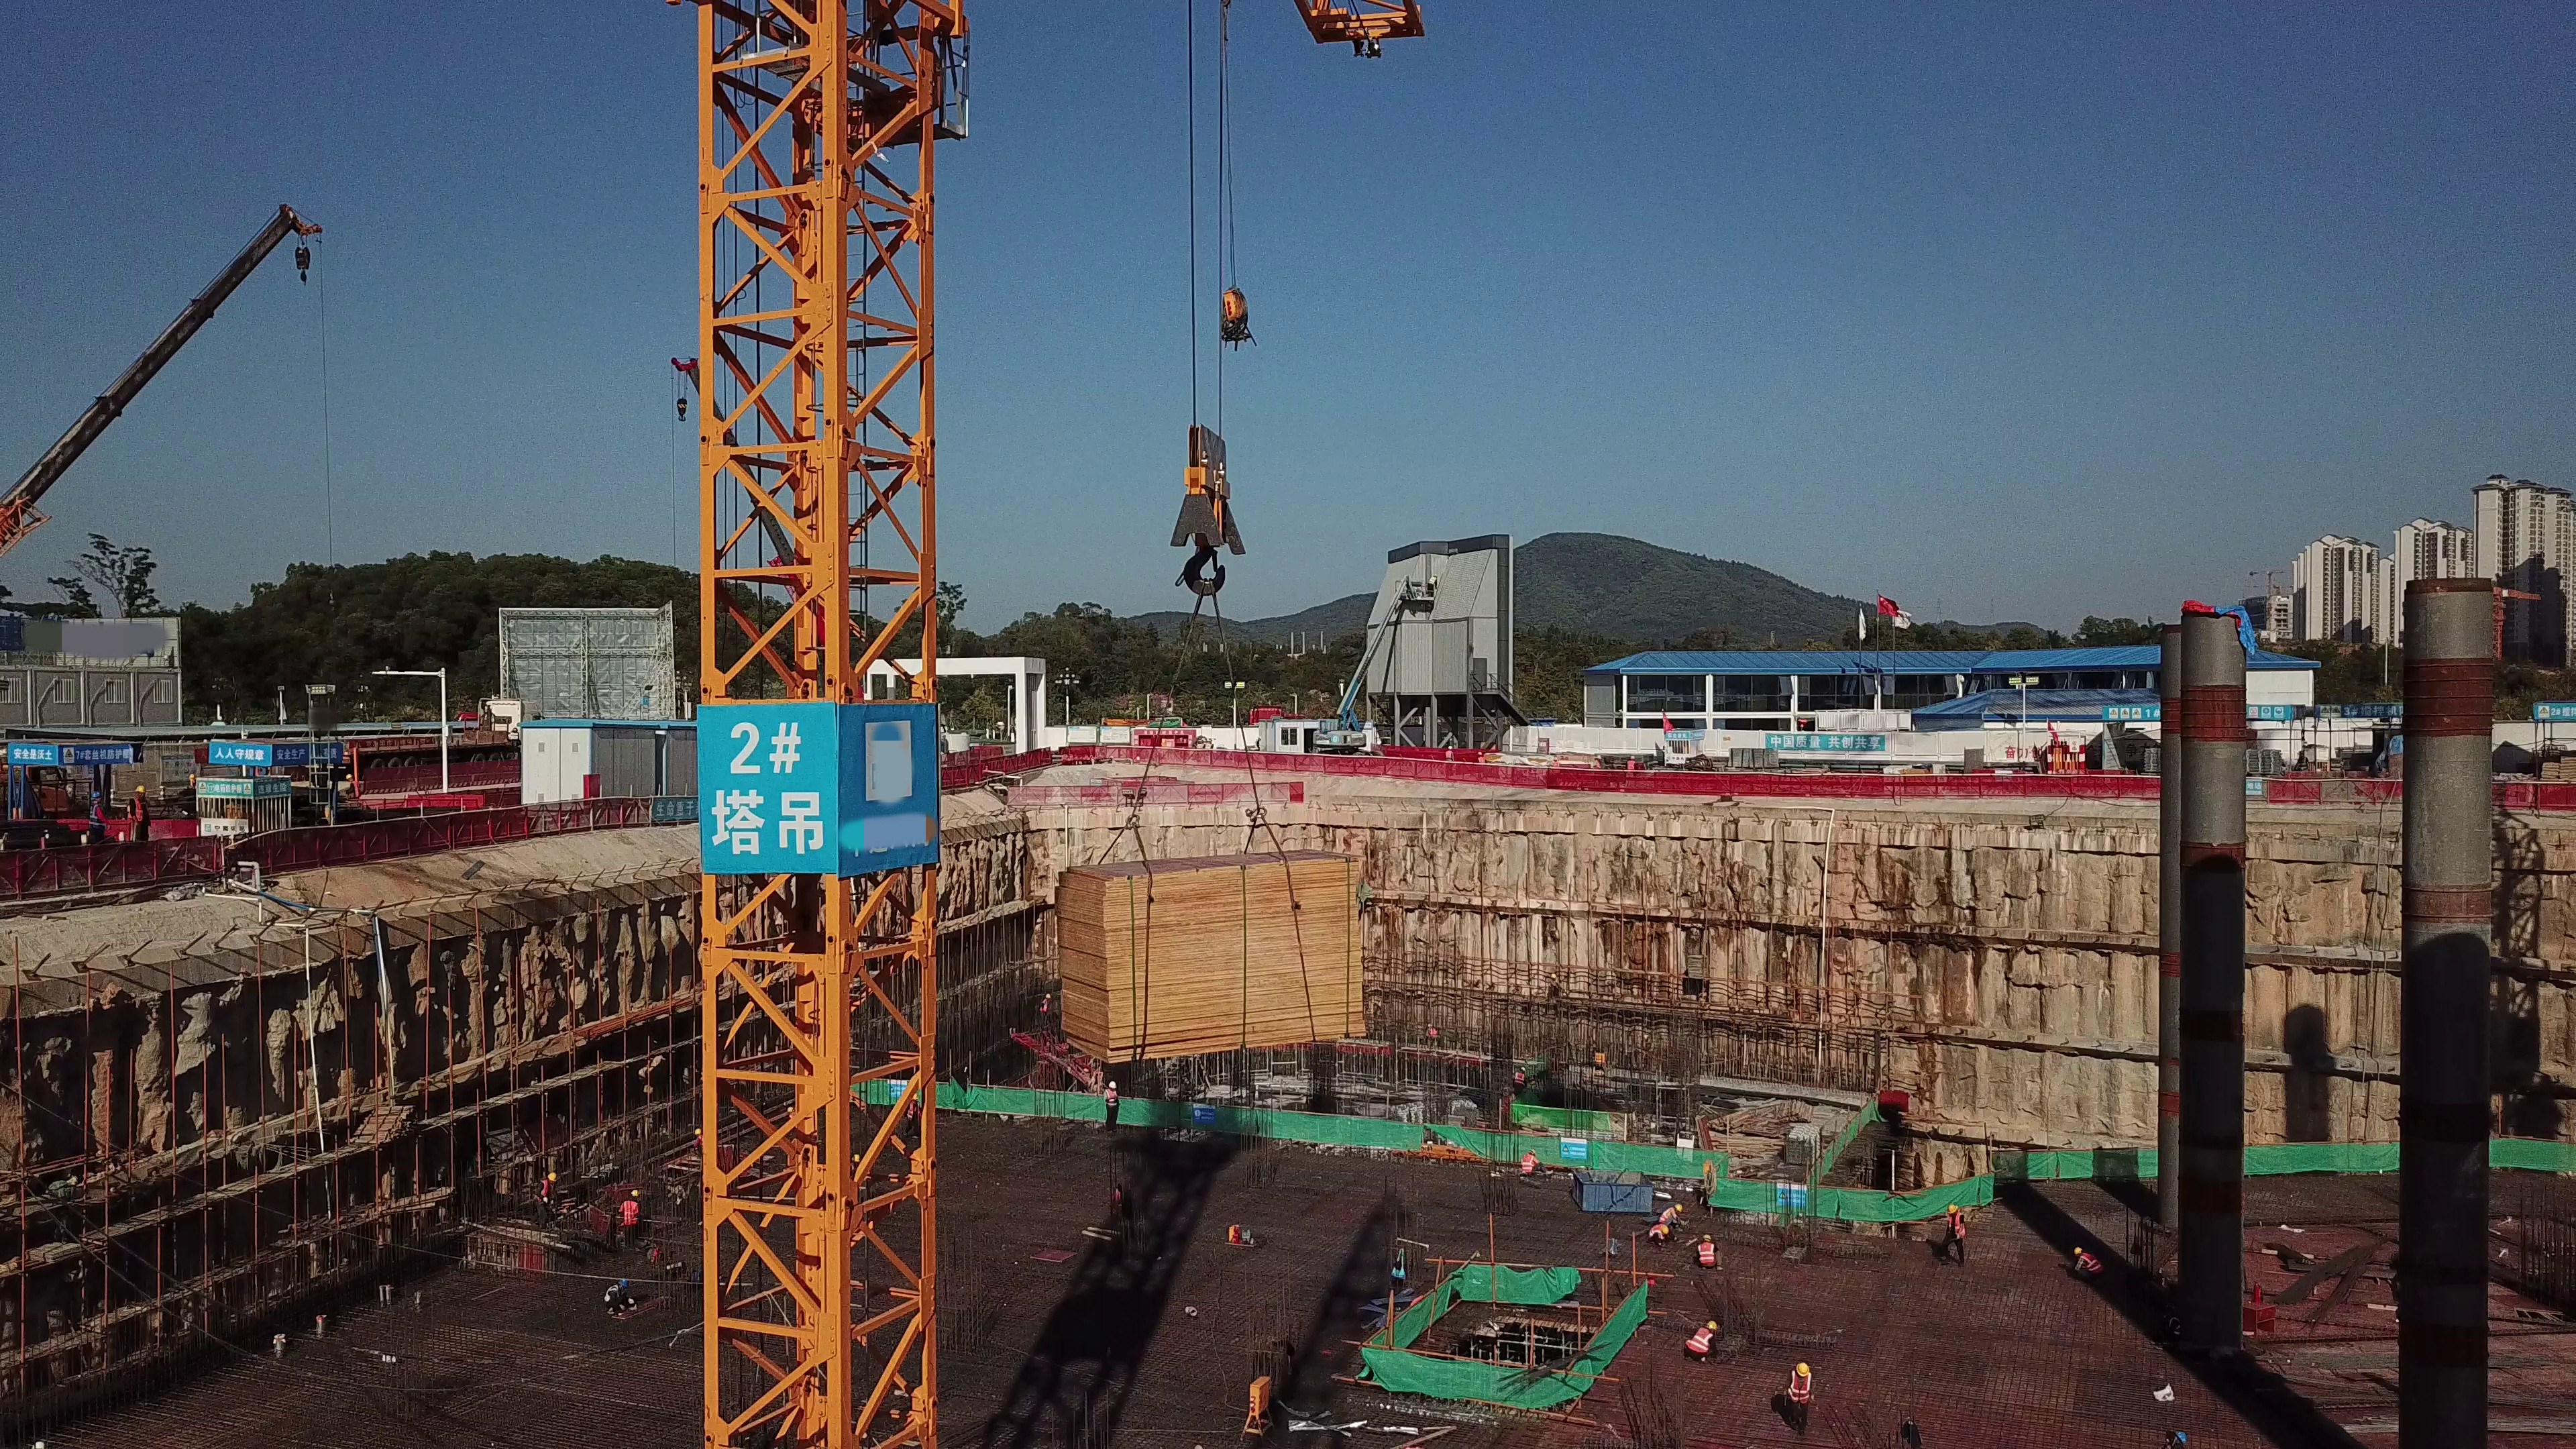helmet: (2165, 1426, 2189, 1444), (618, 1279, 633, 1291), (133, 784, 148, 794), (547, 1171, 560, 1182), (1675, 1203, 1688, 1214), (1797, 1363, 1809, 1375), (1945, 1203, 1956, 1213), (1704, 1322, 1717, 1330), (1660, 1226, 1672, 1234), (909, 1091, 919, 1102), (1699, 1232, 1710, 1241), (631, 1189, 639, 1198), (694, 1128, 703, 1135), (2073, 1247, 2082, 1256), (1108, 1081, 1118, 1089), (785, 1105, 794, 1112), (1518, 1065, 1527, 1071), (345, 772, 353, 778), (1045, 991, 1053, 998), (93, 790, 101, 797), (1448, 744, 1454, 751), (1595, 753, 1603, 759), (189, 771, 195, 779), (1530, 1147, 1538, 1152), (1476, 750, 1483, 755), (1553, 755, 1560, 761), (1629, 755, 1636, 759)
person: (1780, 1361, 1816, 1435), (1940, 1202, 1973, 1267), (1683, 1321, 1726, 1366), (531, 1171, 566, 1227), (617, 1187, 644, 1251), (85, 791, 115, 843), (604, 1277, 643, 1318), (2069, 1245, 2104, 1287), (1518, 1147, 1560, 1180), (129, 784, 154, 841), (1696, 1232, 1727, 1274), (1100, 1081, 1123, 1136), (1646, 1222, 1684, 1252), (906, 1089, 924, 1142), (1656, 1200, 1696, 1222), (1036, 989, 1052, 1024), (1511, 1065, 1530, 1092), (343, 773, 362, 798), (1424, 1022, 1444, 1043), (692, 1127, 704, 1151), (1443, 744, 1457, 762), (1591, 753, 1606, 769), (1623, 754, 1639, 770), (1550, 756, 1562, 767), (1474, 750, 1485, 764)
vest: (133, 795, 152, 826), (1689, 1327, 1709, 1356), (621, 1199, 639, 1228), (1792, 1376, 1809, 1403), (91, 802, 105, 828), (1518, 1152, 1536, 1174), (1701, 1242, 1715, 1267), (2082, 1254, 2102, 1273), (1949, 1214, 1963, 1236), (605, 1285, 622, 1303), (1104, 1089, 1120, 1107), (537, 1181, 549, 1203), (910, 1101, 922, 1123), (1039, 999, 1051, 1014), (1514, 1071, 1529, 1085), (1660, 1208, 1674, 1221), (350, 780, 362, 796), (1650, 1226, 1661, 1238), (1625, 759, 1636, 769), (1429, 1028, 1441, 1037), (1444, 750, 1455, 759), (1477, 755, 1486, 762)
